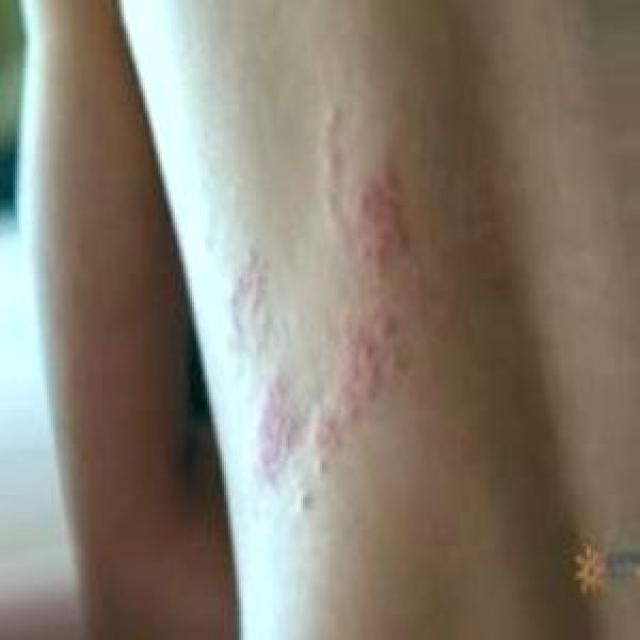Shingles: (294, 114, 410, 505), (224, 248, 307, 492)
